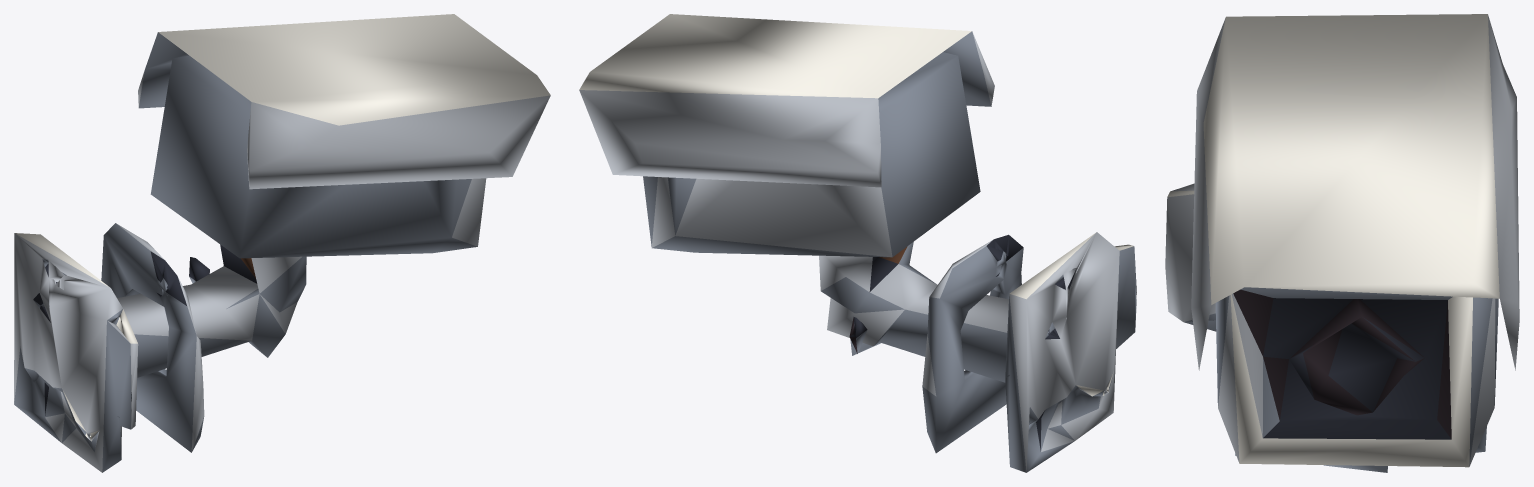
File: SM_cctv_camera.glb
3 views of the same model, side by side, from view 1: azimuth 30°, elevation 25°; view 2: azimuth 150°, elevation 25°; view 3: azimuth 270°, elevation 25° (orthographic). The views are drawn at different scales.
Visible parts, largest first — view 1: SM_cctv_camera; view 2: SM_cctv_camera; view 3: SM_cctv_camera.
Part boxes in pixels (x1,y1,x2,y2): SM_cctv_camera: (14,14,550,472); SM_cctv_camera: (579,14,1136,472); SM_cctv_camera: (1165,14,1519,472).
Size of the model in its own units: 0.3794 by 0.28 by 0.1872.
Materials: 1 (1 with a texture image).
